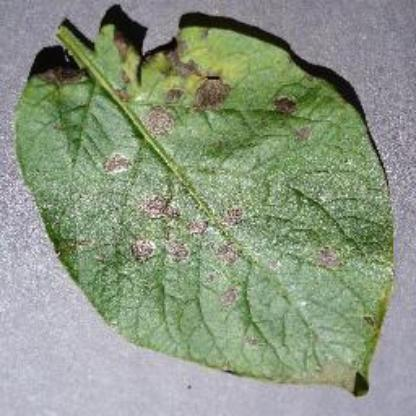Early-Blight: (15, 12, 393, 396)
